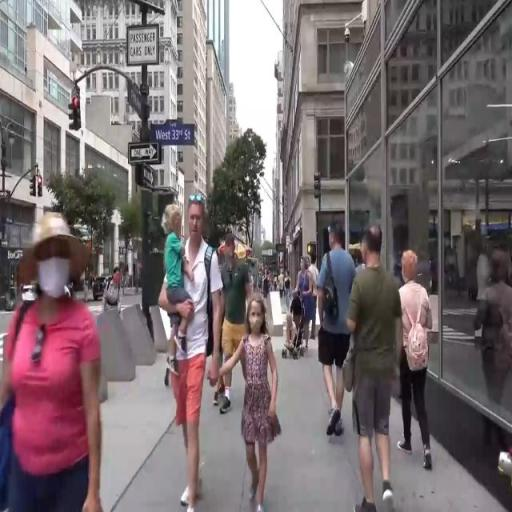person: (1, 207, 111, 512), (157, 202, 228, 512), (352, 236, 400, 512), (398, 247, 439, 482), (238, 295, 276, 498), (320, 221, 353, 451), (162, 205, 192, 372), (224, 230, 245, 365), (291, 252, 314, 366), (308, 252, 319, 336), (286, 311, 297, 353)
